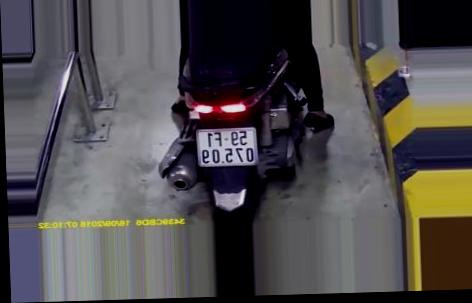License_Plate: (191, 121, 268, 172)
